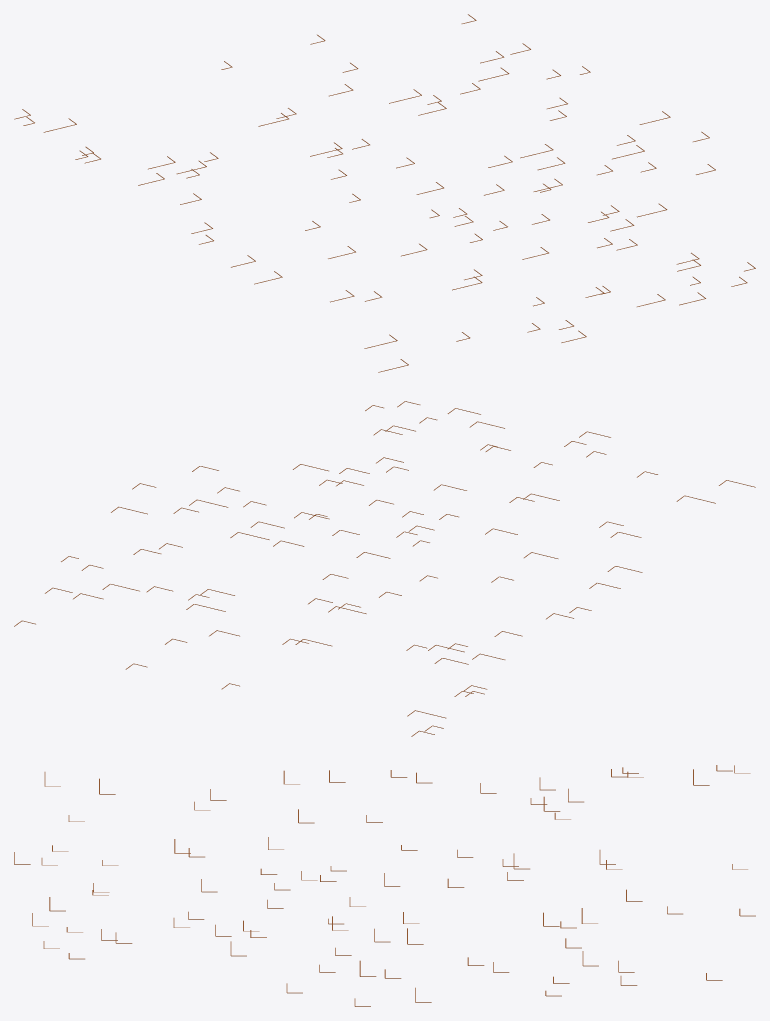
3 renders of one model, top to bottom at view 1: azimuth 30°, elevation 25°; view 2: azimuth 150°, elevation 25°; view 3: azimuth 270°, elevation 25°, orthographic. The views are drawn at different scales.
Visible parts, largest first — view 1: LAYER_07__Copper; view 2: LAYER_07__Copper; view 3: LAYER_07__Copper.
Boxes of the visible parts, x1,y1,x2,y2 form: LAYER_07__Copper: [14, 14, 755, 372]; LAYER_07__Copper: [14, 401, 755, 736]; LAYER_07__Copper: [14, 765, 755, 1006].
Bounding box in the file's own units: 213 × 0.09 × 276.
